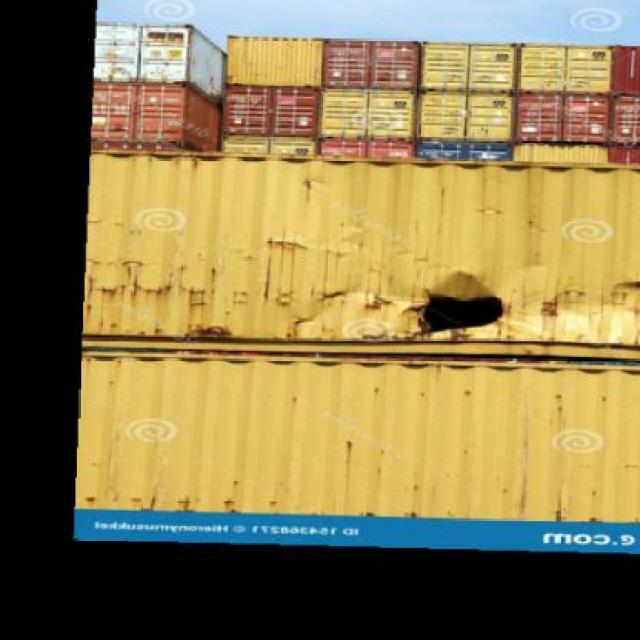hole: (381, 269, 523, 340)
rust: (89, 237, 377, 340)
